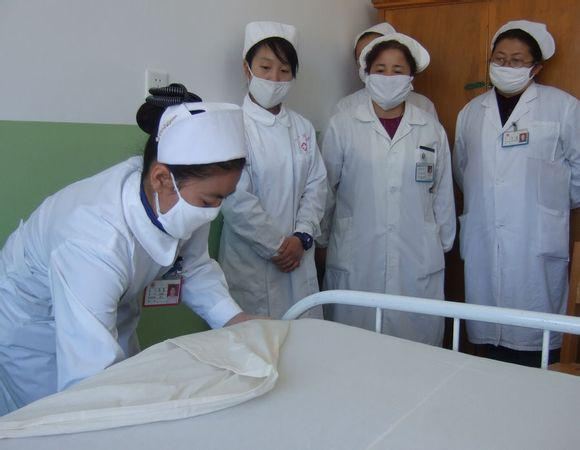OK: (155, 174, 232, 240), (367, 61, 411, 108), (490, 49, 532, 94)
WRONG: (246, 51, 295, 107)
